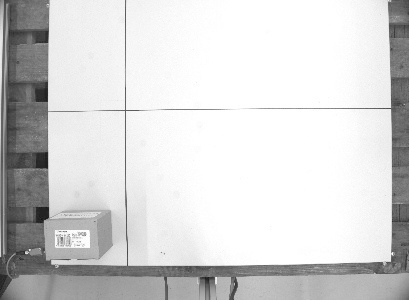b5: (41, 207, 117, 261)
